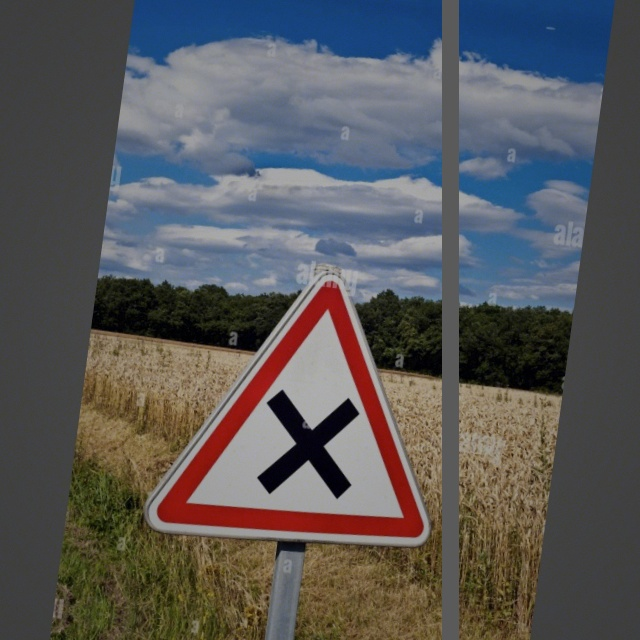Cross_Road: (157, 257, 461, 565)
